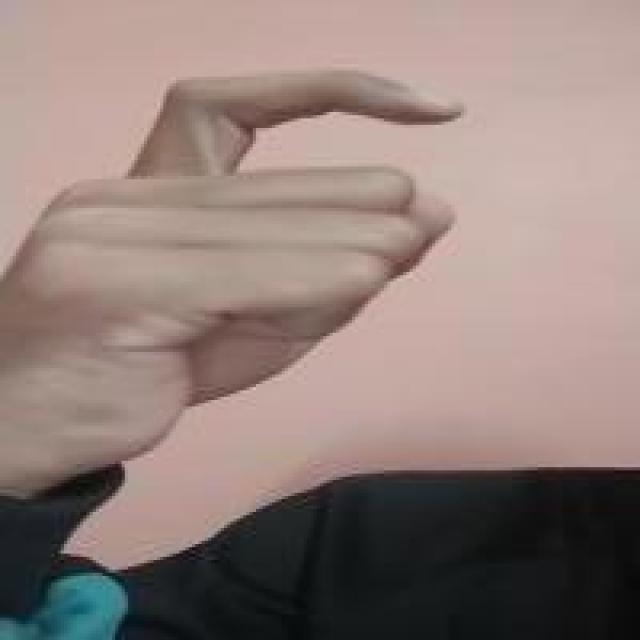X: (11, 59, 466, 440)
